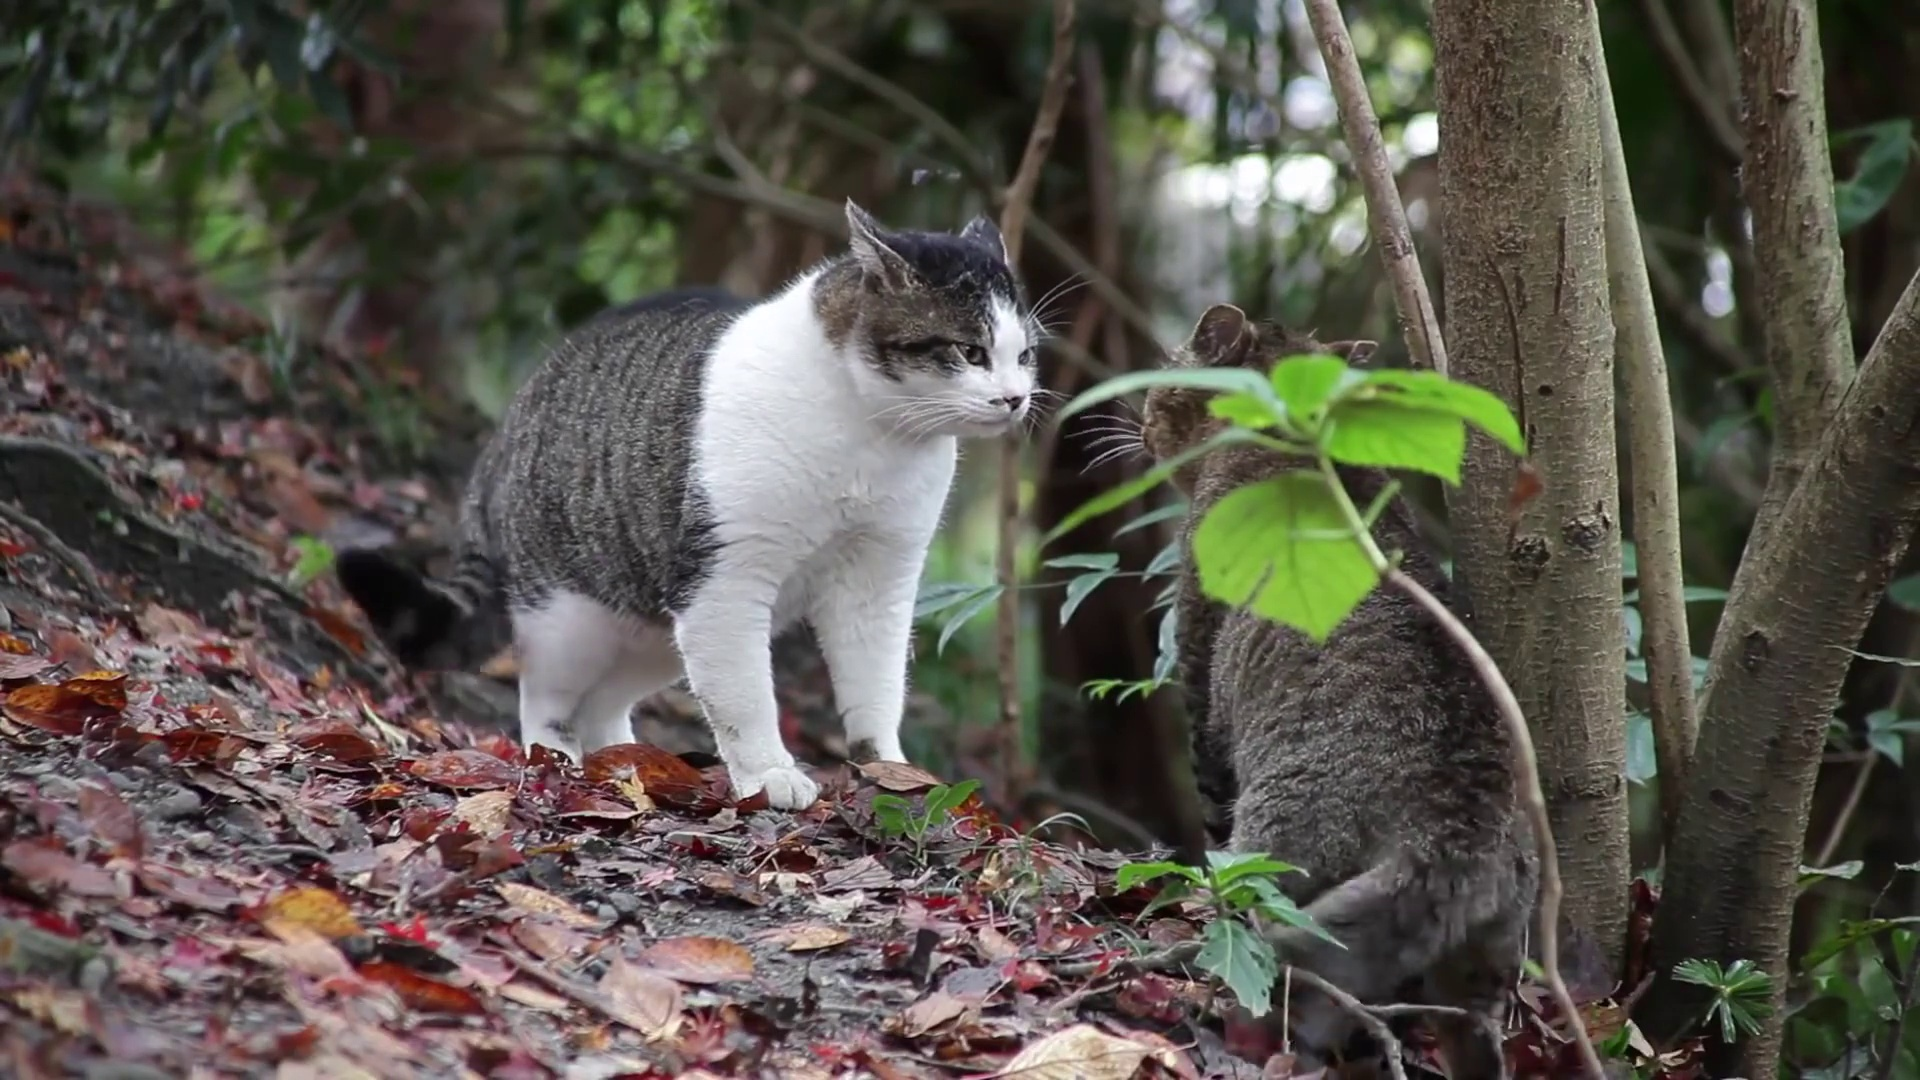black-white: (334, 198, 1038, 808)
pure black: (1139, 301, 1538, 1080)
